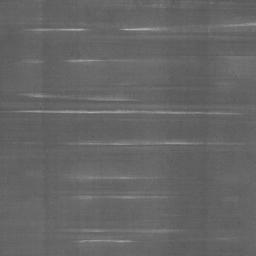Waist folding: (20, 0, 256, 65), (0, 82, 242, 117), (62, 227, 230, 244), (70, 174, 168, 201), (66, 138, 256, 147), (25, 26, 89, 33)
